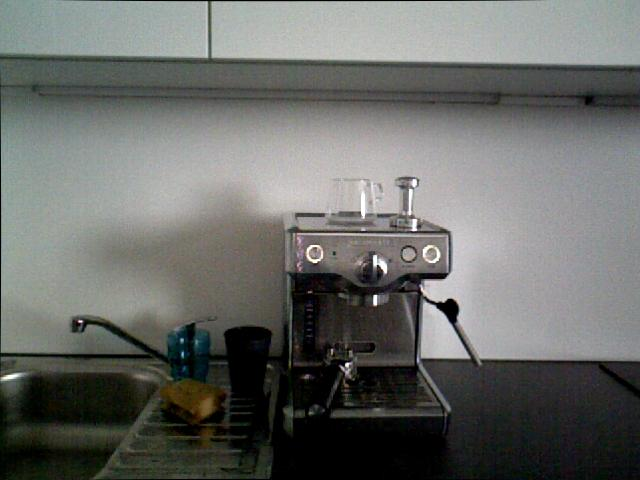couch: (0, 351, 259, 480)
handbag: (223, 325, 272, 397), (163, 325, 215, 384), (324, 175, 383, 225)
